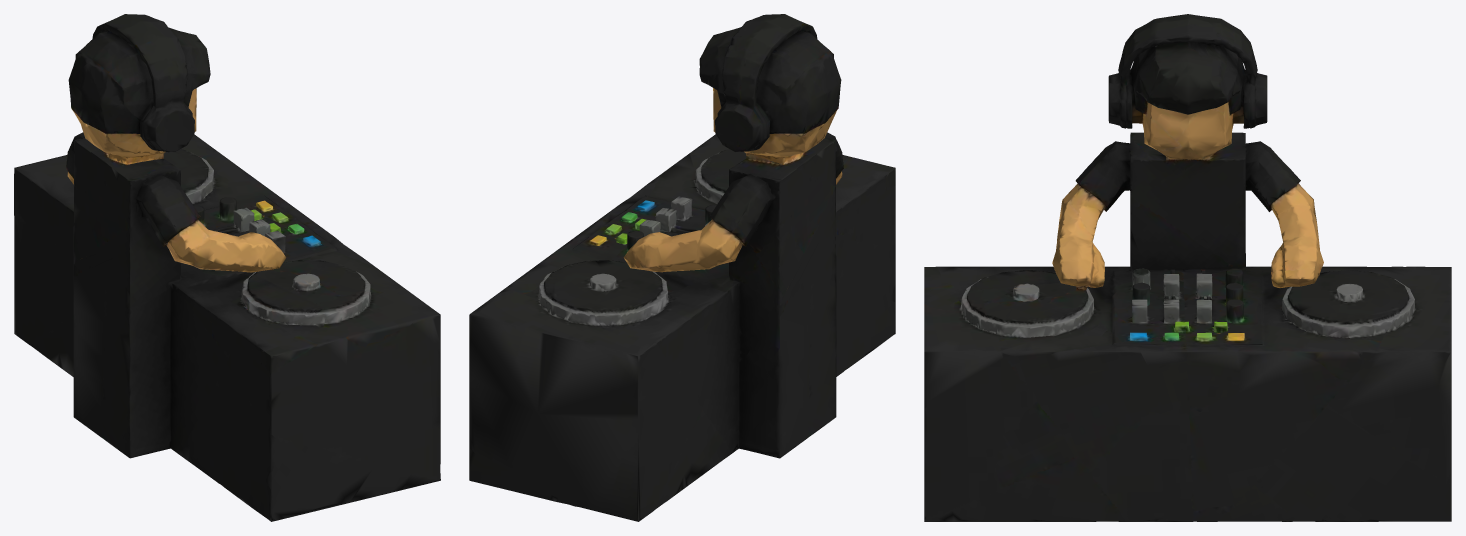
3 views of the same model, side by side, from view 1: azimuth 30°, elevation 25°; view 2: azimuth 150°, elevation 25°; view 3: azimuth 270°, elevation 25° (orthographic). The views are drawn at different scales.
Visible parts, largest first — view 1: tripo_node_032af4d8-ad92-4290-a366-b05dc492b874; view 2: tripo_node_032af4d8-ad92-4290-a366-b05dc492b874; view 3: tripo_node_032af4d8-ad92-4290-a366-b05dc492b874.
Boxes of the visible parts, <box> form: tripo_node_032af4d8-ad92-4290-a366-b05dc492b874: <box>14,14,440,521</box>; tripo_node_032af4d8-ad92-4290-a366-b05dc492b874: <box>469,14,895,521</box>; tripo_node_032af4d8-ad92-4290-a366-b05dc492b874: <box>924,14,1451,521</box>.
Bounding box in the file's own units: 0.5174 × 0.8728 × 1.
Materials: 1 (1 with a texture image).
